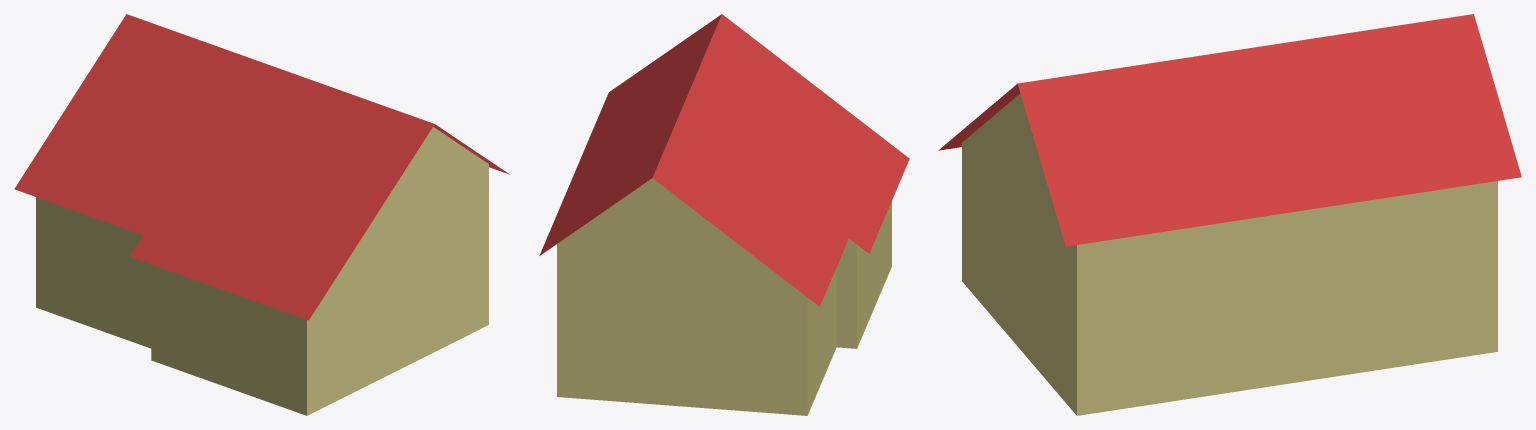
3 renders of one model, left to right at view 1: azimuth 30°, elevation 25°; view 2: azimuth 150°, elevation 25°; view 3: azimuth 270°, elevation 25°, orthographic. The views are drawn at different scales.
Bounding box in the file's own units: 26.41 × 31.19 × 16.87.
